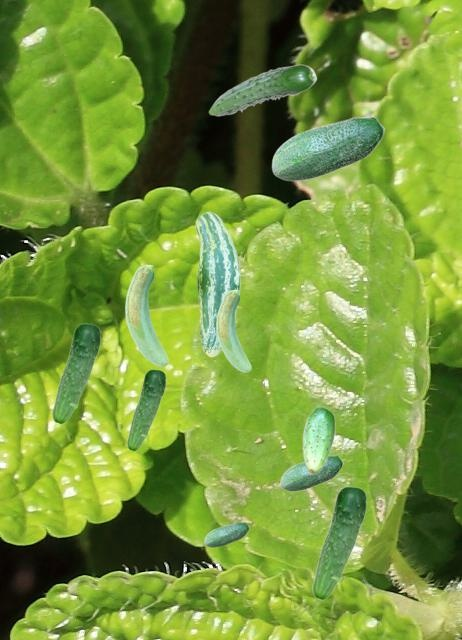cucumber: (271, 116, 384, 180), (195, 211, 239, 356), (311, 486, 366, 599), (208, 64, 316, 115), (51, 323, 100, 423), (125, 265, 167, 365), (126, 369, 165, 450), (216, 290, 250, 371), (302, 406, 334, 474), (280, 455, 342, 490), (204, 522, 248, 546)
